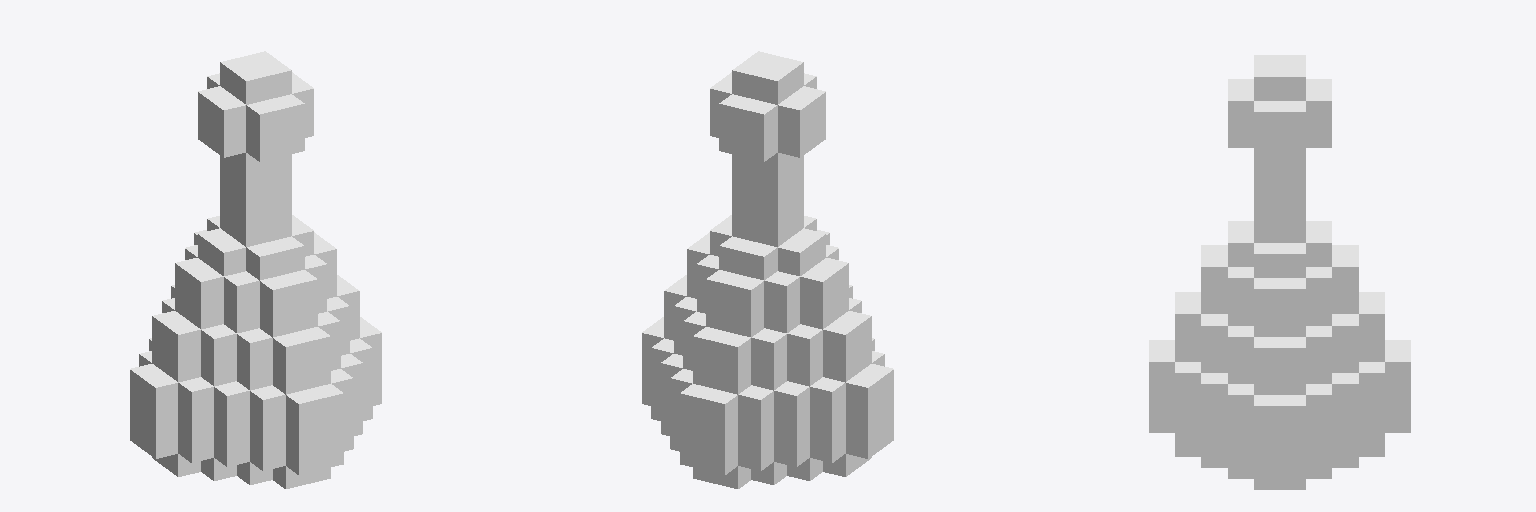
Rendered from healBottle.obj.
3 renders of one model, left to right at view 1: azimuth 30°, elevation 25°; view 2: azimuth 150°, elevation 25°; view 3: azimuth 270°, elevation 25°, orthographic.
Visible parts, largest first — view 1: object 1; view 2: object 1; view 3: object 1.
Boxes of the visible parts, <box> form: object 1: <box>130,51,381,488</box>; object 1: <box>642,51,893,488</box>; object 1: <box>1149,55,1410,489</box>.
Bounding box in the file's own units: 1 × 1.6 × 1.